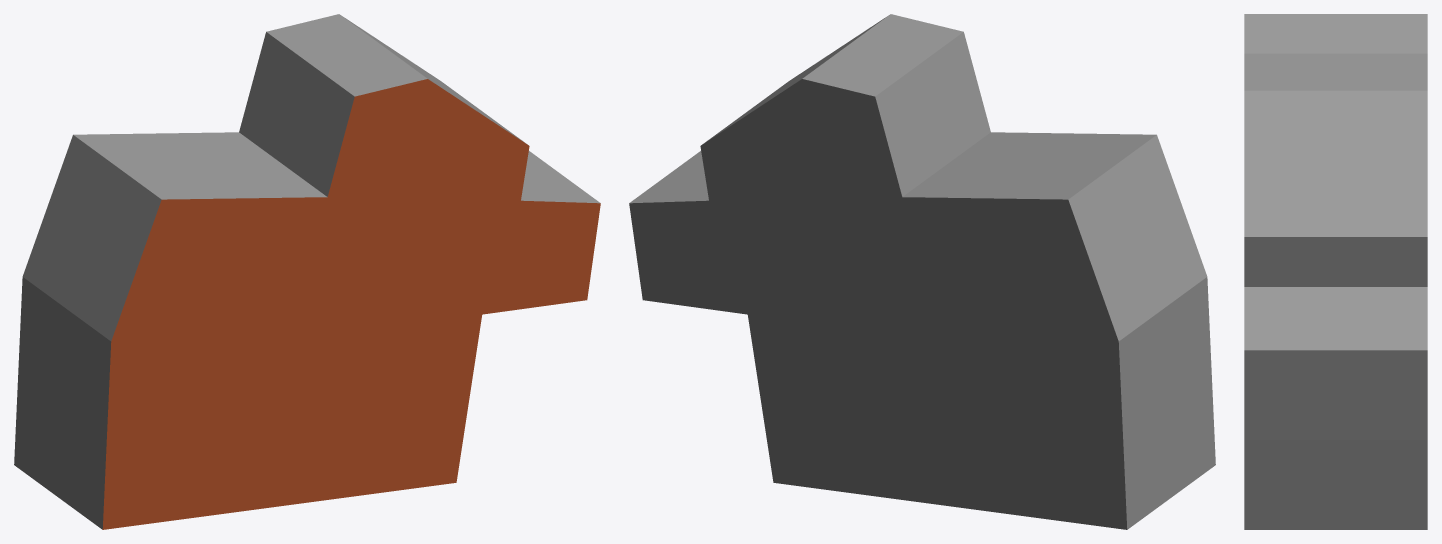
Rendered from construction_4710_assumed_A_Casa_h6m.obj.
The picture shows the model from 3 angles, left to right: view 1: azimuth 30°, elevation 25°; view 2: azimuth 150°, elevation 25°; view 3: azimuth 270°, elevation 25°; orthographic projection. The views are drawn at different scales.
Visible parts, largest first — view 1: construction_4710_assumed_A_Casa; view 2: construction_4710_assumed_A_Casa; view 3: construction_4710_assumed_A_Casa.
Boxes of the visible parts, x1,y1,x2,y2 form: construction_4710_assumed_A_Casa: (14, 14, 600, 529); construction_4710_assumed_A_Casa: (629, 14, 1215, 529); construction_4710_assumed_A_Casa: (1244, 14, 1427, 529).
Size of the model in its own units: 19.47 by 15.35 by 6.
